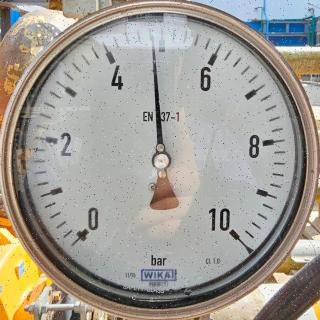gauge: (0, 0, 320, 320), (61, 204, 107, 254), (202, 206, 250, 253), (151, 151, 172, 171), (146, 32, 156, 46)
